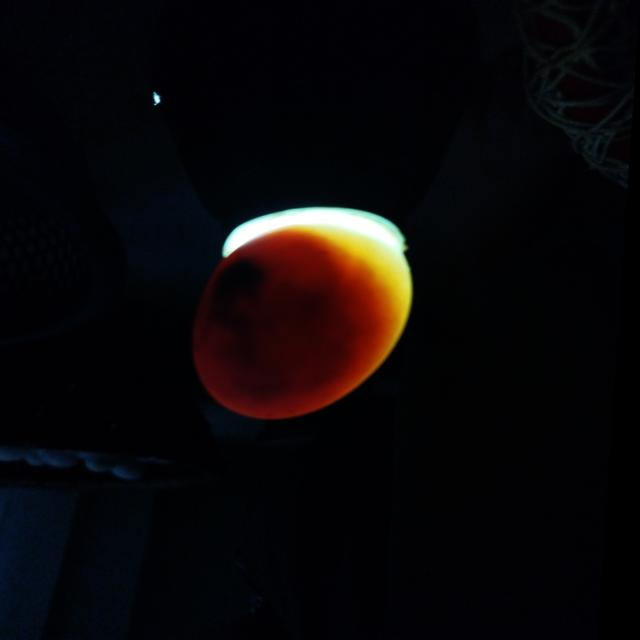Area Infectada: (206, 258, 357, 403)
